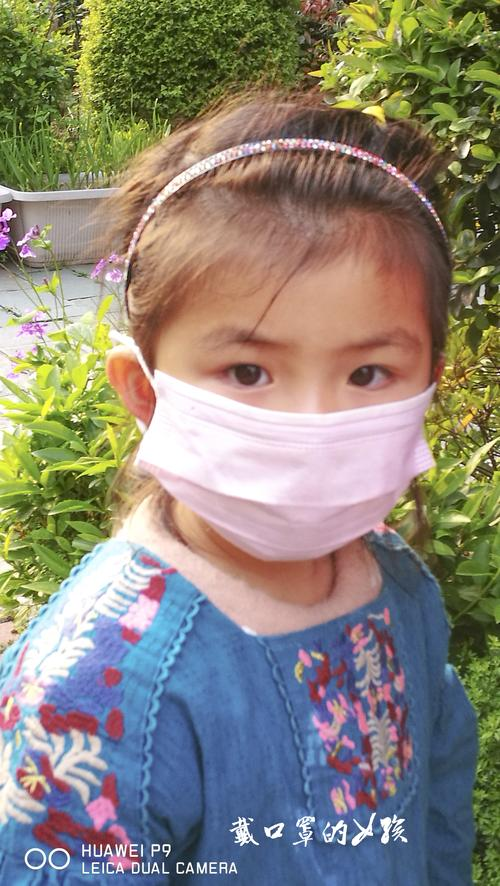mask: (136, 165, 445, 557)
